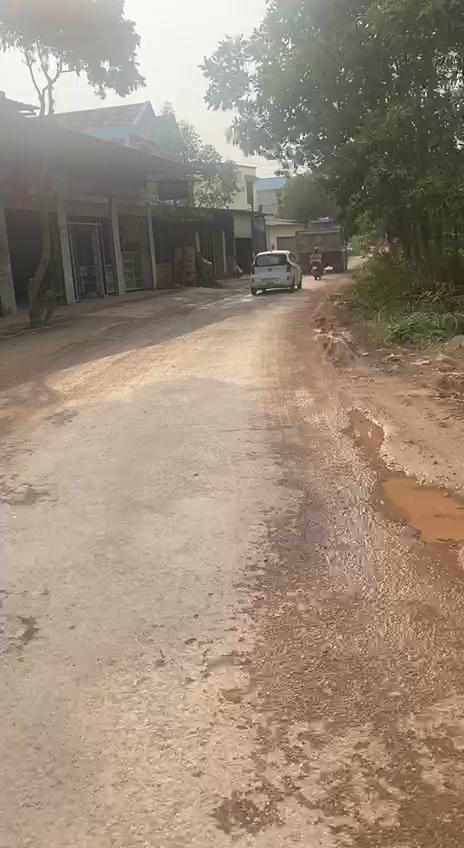pothole: (341, 403, 464, 557)
